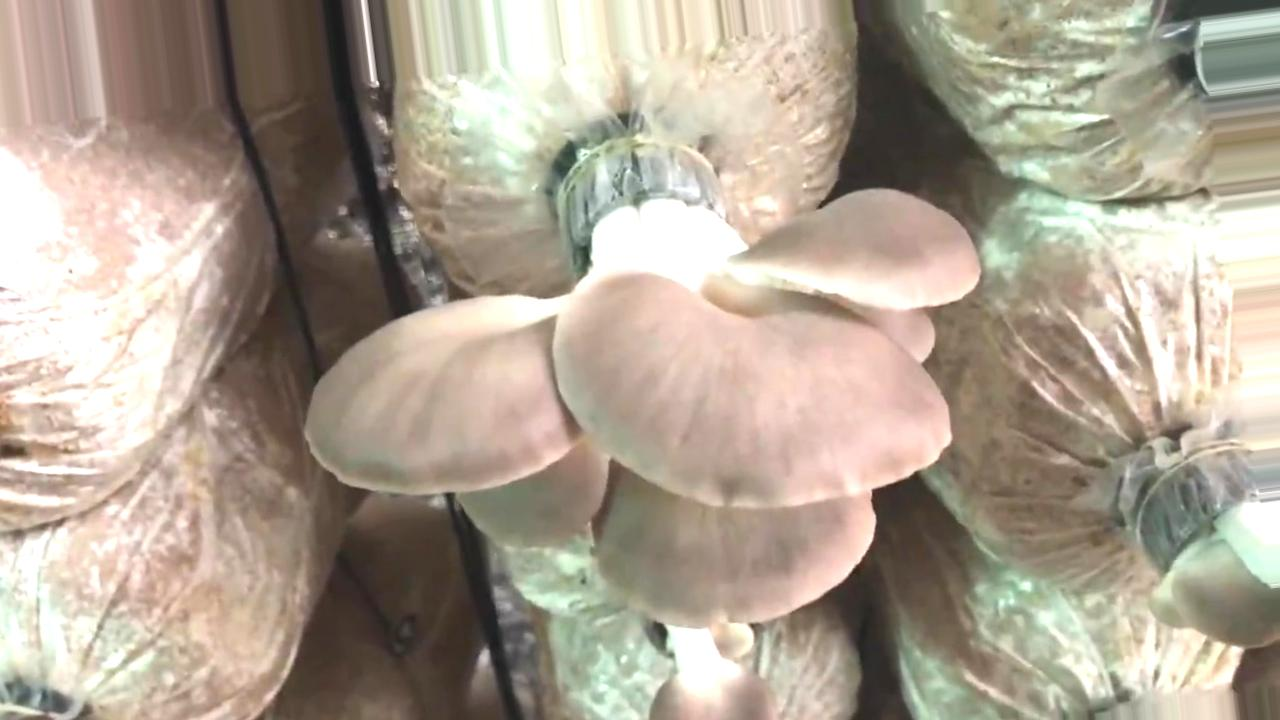nam: (309, 145, 980, 619), (1145, 442, 1280, 648), (651, 616, 774, 720)
